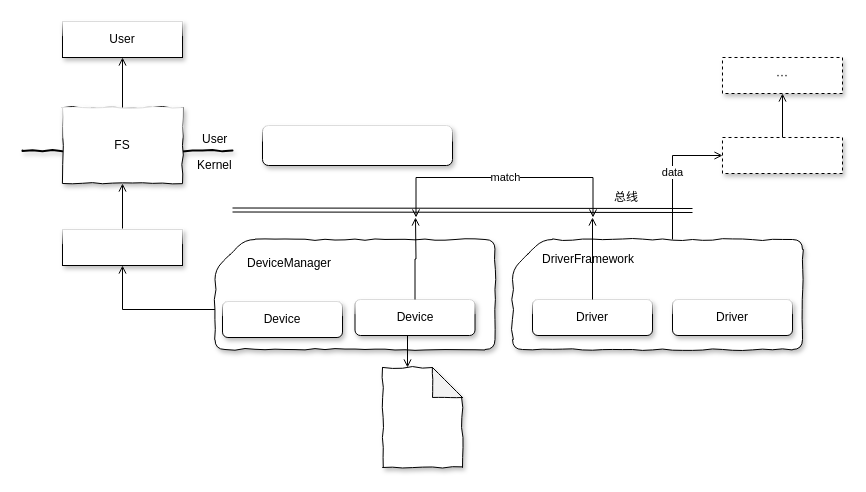
This 866x492 diagram has some shape labels left out. The centre of each missing label's shape, as x and y in pixels:
Device Tree: the point at 123,248
irq: the point at 783,156
queue: the point at 358,146
设备自身信息: the point at 423,418
